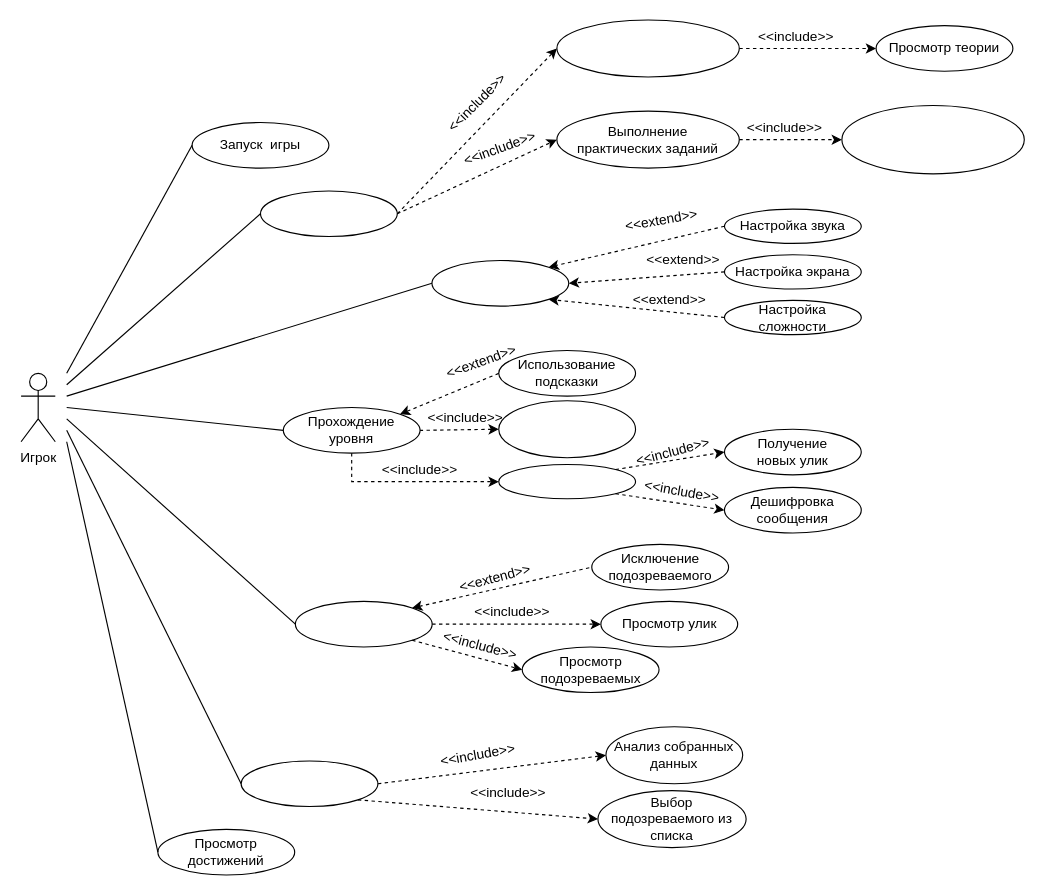
Some shapes in this 1044 by 895 pixel diagram are drawn without their labels. Each missing label, with the centre of its shape:
Анализ данных: the point at 567,481
Выбор хакера: the point at 309,783
Изучение методов шифрования: the point at 647,48
Настройка игры: the point at 500,282
Получение оценки за уровень: the point at 567,429
Получение подсказок и объяснений: the point at 932,139
Прохождение обучения: the point at 328,213
Работа с блокнотом: the point at 363,623
